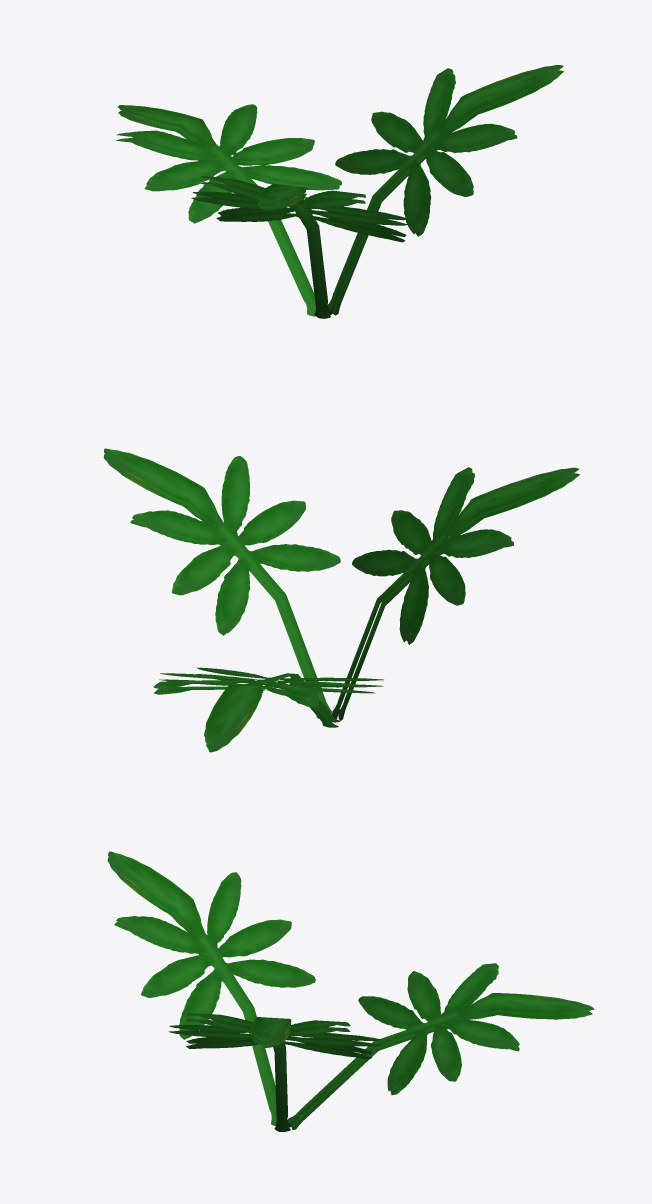
The model's file is Bush5.FBX.
The picture shows the model from 3 angles, top to bottom: view 1: azimuth 30°, elevation 25°; view 2: azimuth 150°, elevation 25°; view 3: azimuth 270°, elevation 25°; orthographic projection. The views are drawn at different scales.
Visible parts, largest first — view 1: Bush5; view 2: Bush5; view 3: Bush5.
Boxes of the visible parts, left/top/right/bottom form: Bush5: left=116, top=65, right=563, bottom=318; Bush5: left=103, top=448, right=579, bottom=752; Bush5: left=107, top=851, right=594, bottom=1131.
Size of the model in its own units: 4.67 by 2.1 by 5.23.
1 material, 1 textured.
